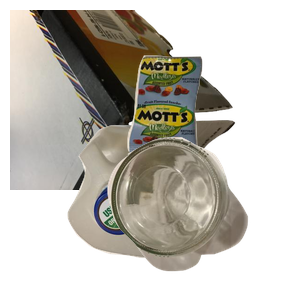cardboard: (10, 10, 238, 190)
glass: (105, 135, 300, 300)
plastic: (65, 123, 257, 300)
trash: (125, 53, 300, 201)
